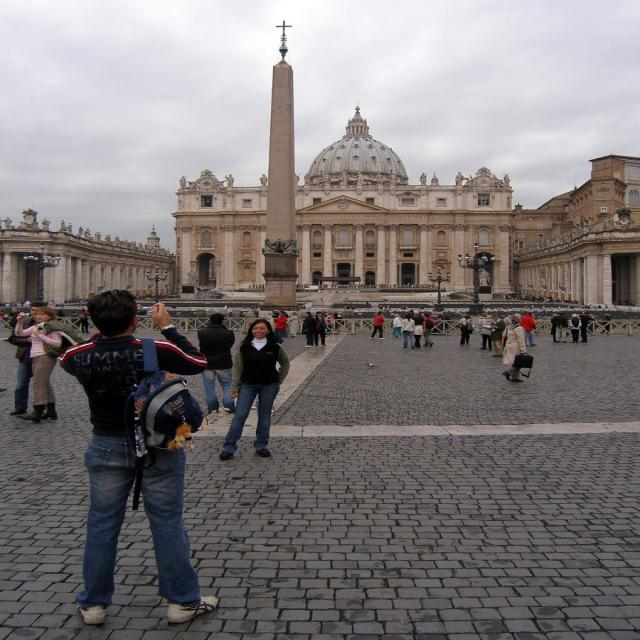body: (56, 286, 225, 627), (218, 317, 292, 462), (6, 300, 57, 418), (14, 306, 64, 424), (447, 289, 637, 313), (196, 311, 238, 414), (0, 292, 183, 307), (500, 312, 535, 383), (294, 282, 440, 290), (295, 302, 434, 310), (482, 312, 506, 358), (518, 311, 538, 347), (478, 314, 495, 351), (410, 311, 426, 349), (552, 310, 570, 343), (300, 311, 316, 348), (400, 313, 416, 349), (420, 312, 436, 348), (456, 314, 474, 346), (273, 310, 288, 345), (369, 310, 386, 340), (314, 310, 327, 347), (479, 312, 513, 326), (568, 313, 582, 344), (388, 313, 404, 338), (78, 308, 92, 334), (578, 310, 589, 343), (436, 311, 451, 334), (7, 307, 21, 330), (550, 312, 560, 343), (288, 311, 299, 338), (599, 312, 611, 336), (587, 314, 598, 334), (433, 312, 443, 333), (70, 311, 81, 330), (226, 304, 260, 310), (325, 312, 335, 332), (333, 312, 342, 334), (245, 282, 266, 290), (56, 309, 68, 322), (271, 309, 288, 317), (321, 310, 329, 319)
